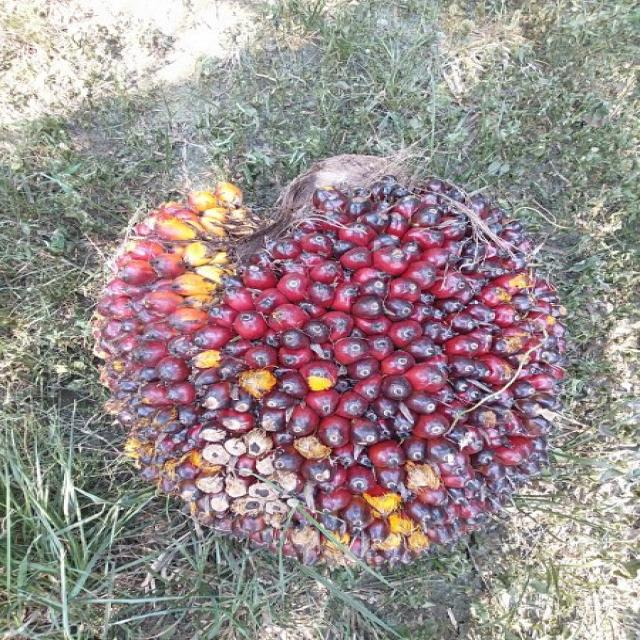fraksi 1: (65, 88, 608, 578)
